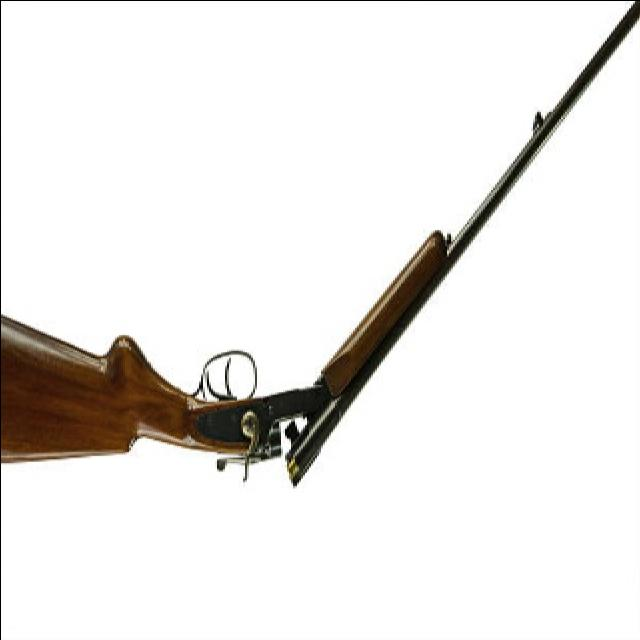rifle: (3, 27, 637, 491)
